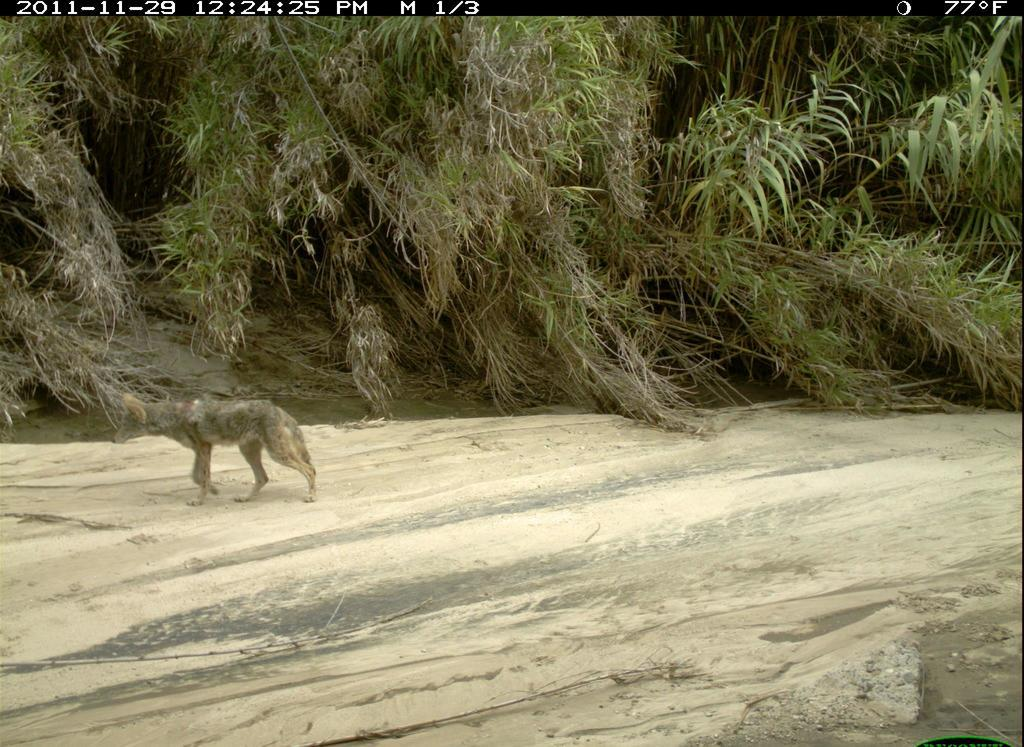coyote: (109, 383, 324, 510)
